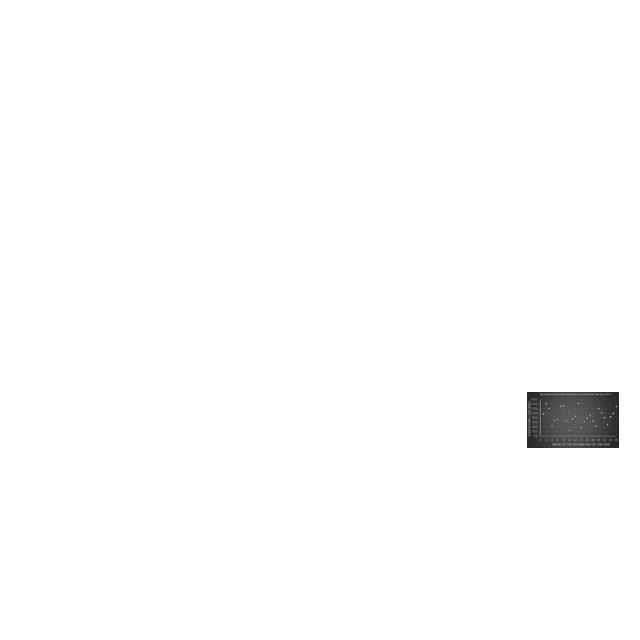Graph: (527, 392, 619, 448)
